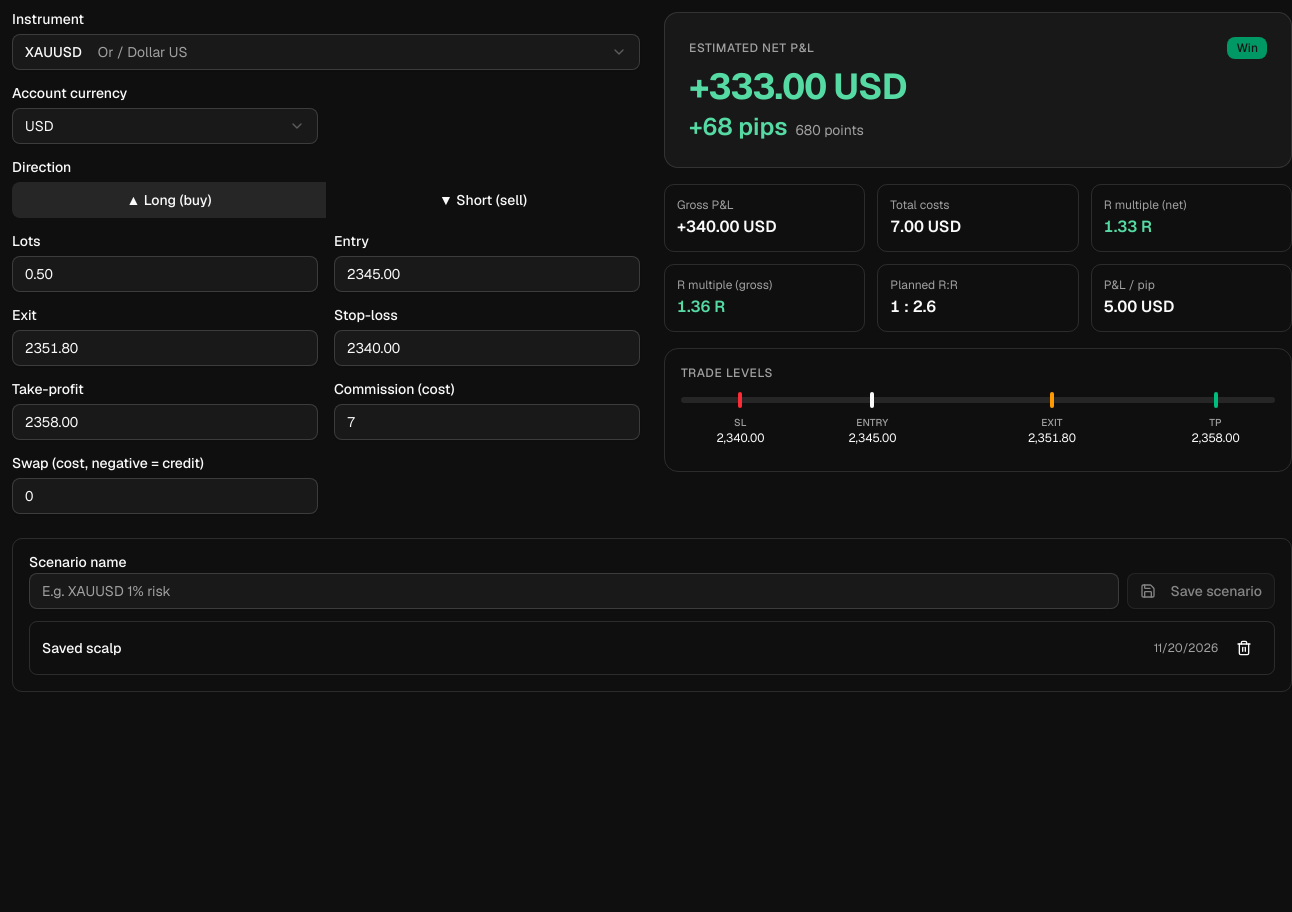
Test: PnlSimulator component › loads a saved scenario back into the inputs
The image size is (1292, 912).
Expected: the number field showing "0.50" is shown, top-left (12, 256), bottom-right (318, 292)
Click the button "Saved scalp": (82, 648) top-left (42, 638), bottom-right (1146, 658)
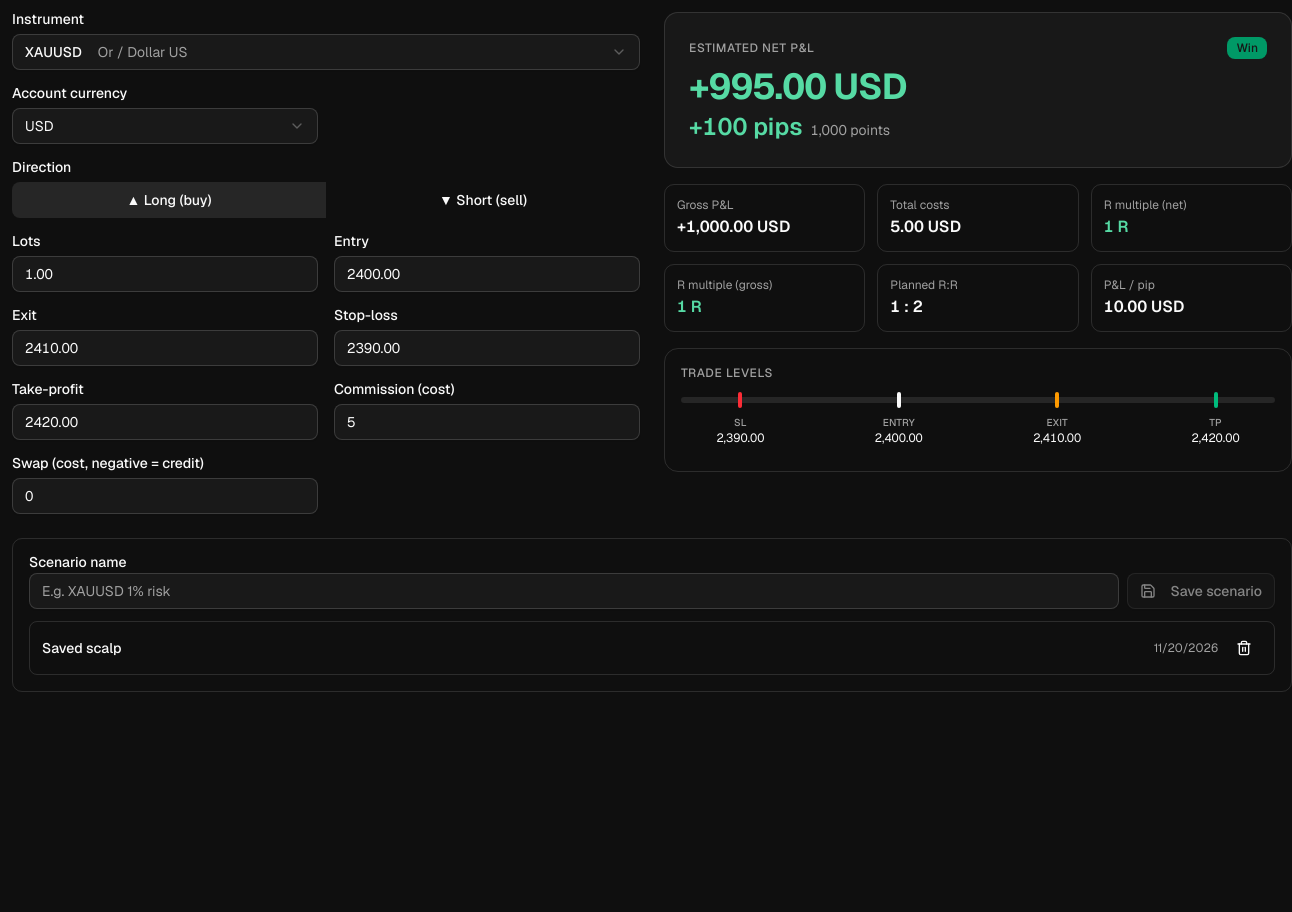
Now the number field showing "1.00" is shown, box top-left (12, 256), bottom-right (318, 292)
Now the number field showing "2400.00" is shown, box top-left (334, 256), bottom-right (640, 292)
